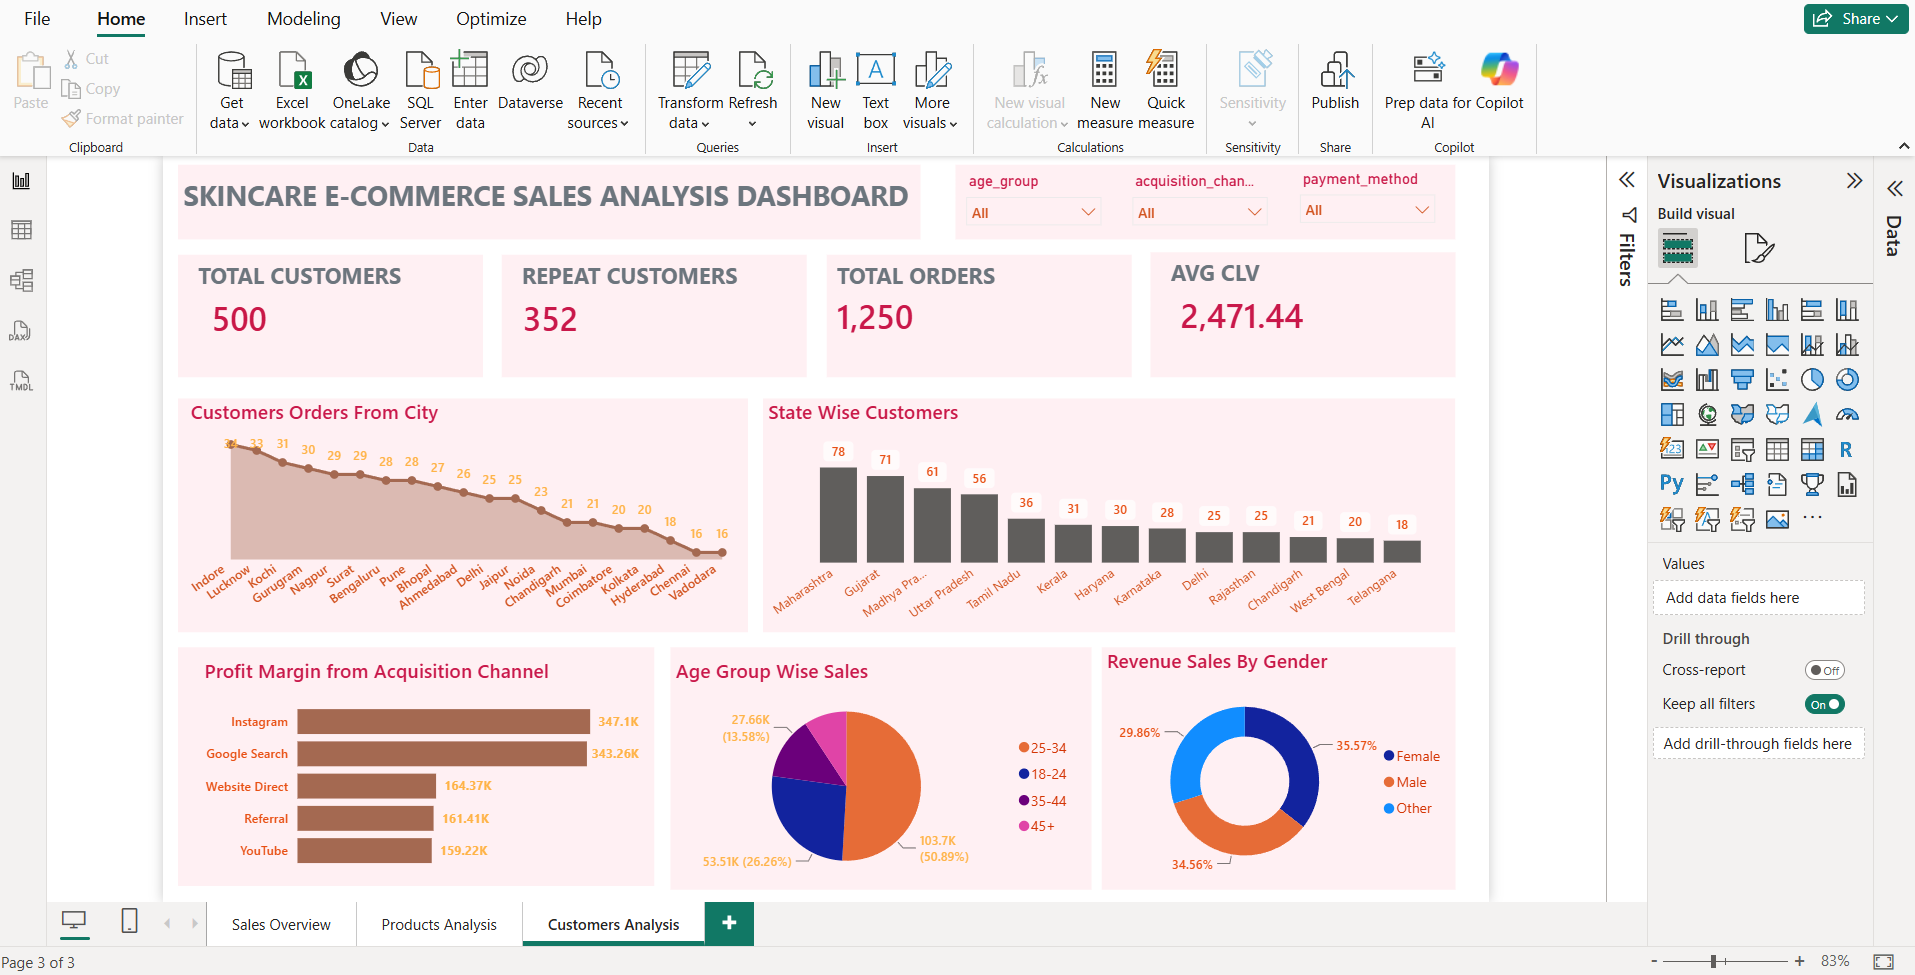

This screenshot's page, from the dashboard's own definition file:
{"tool":"powerbi","page":{"name":"Customers Analysis","canvas":[1280,720],"ordinal":2},"visuals":[{"type":"shape","box":[14.5,95.3,294.4,118.2],"z":0},{"type":"cardVisual","fields":{"Data":["_new meaures.total customers"]},"box":[18.1,120.6,260.6,68.8],"z":1000},{"type":"textbox","box":[29,95.3,249.7,47.1],"z":2000},{"type":"shape","box":[14.5,8.4,716.6,72.4],"z":3000},{"type":"textbox","box":[14.5,14.5,731.1,60.3],"z":4000},{"type":"shape","box":[326.9,95.3,294.4,118.2],"z":5000},{"type":"cardVisual","fields":{"Data":["products.Repeat customers"]},"box":[318.5,120.6,260.6,68.8],"z":6000},{"type":"textbox","box":[341.4,95.3,276.3,47.1],"z":7000},{"type":"shape","box":[640.6,95.3,294.4,118.2],"z":8000},{"type":"cardVisual","fields":{"Data":["_new meaures.total orders"]},"box":[621.3,119.4,331.8,68.8],"z":9000},{"type":"shape","box":[953.1,92.9,294.4,120.6],"z":10000},{"type":"cardVisual","fields":{"Data":["products.avg clv"]},"box":[953.1,118.2,260.6,68.8],"z":11000},{"type":"textbox","box":[967.6,92.9,279.9,47.1],"z":12000},{"type":"shape","box":[579.1,234,668.4,225.6],"z":13000},{"type":"lineStackedColumnComboChart","title":"State Wise Customers","fields":{"Category":["customers.state"],"Y":["_new meaures.total customers"]},"box":[579.1,234,658.7,225.6],"z":14000},{"type":"shape","box":[906,474.1,341.4,234],"z":15000},{"type":"donutChart","title":"Revenue Sales By Gender","fields":{"Y":["_new meaures.product revenue"],"Category":["customers.gender"]},"box":[906,474.1,341.4,234],"z":16000},{"type":"shape","box":[14.5,474.1,459.7,230.4],"z":17000},{"type":"clusteredBarChart","title":"Profit Margin from Acquisition Channel","fields":{"Category":["customers.acquisition_channel"],"Y":["_new meaures.product revenue"]},"box":[35,483.8,429.5,217.2],"z":18000},{"type":"shape","box":[489.8,474.1,406.6,234],"z":19000},{"type":"pieChart","title":"Age Group Wise Sales","fields":{"Category":["customers.age_group"],"Y":["_new meaures.product revenue"]},"box":[489.8,483.8,396.9,224.4],"z":20000},{"type":"shape","box":[14.5,234,550.1,225.6],"z":21000},{"type":"areaChart","title":"Customers Orders From City","fields":{"Category":["customers.city"],"Y":["_new meaures.total customers"]},"box":[21.7,234,533.2,225.6],"z":22000},{"type":"shape","box":[764.9,8.4,482.6,72.4],"z":23000},{"type":"slicer","fields":{"Values":["customers.age_group"]},"box":[764.9,10.9,150.8,67.6],"z":24000},{"type":"slicer","fields":{"Values":["customers.acquisition_channel"]},"box":[925.3,10.9,150.8,67.6],"z":25000},{"type":"slicer","fields":{"Values":["orders.payment_method"]},"box":[1087,8.4,150.8,67.6],"z":26000},{"type":"textbox","box":[645.4,95.3,279.9,47.1],"z":27000}]}

Visuals, with their boxes on the page's 1280x720 design canvas (x1, y1, x2, y2). These are canvas units, not pixel positions in the 1915x975 screenshot, which may show the page scaled, cropped or inside an application window:
shape: bbox=[14, 95, 309, 214]
cardVisual - _new meaures.total customers: bbox=[18, 121, 279, 189]
textbox: bbox=[29, 95, 279, 142]
shape: bbox=[14, 8, 731, 81]
textbox: bbox=[14, 14, 746, 75]
shape: bbox=[327, 95, 621, 214]
cardVisual - products.Repeat customers: bbox=[318, 121, 579, 189]
textbox: bbox=[341, 95, 618, 142]
shape: bbox=[641, 95, 935, 214]
cardVisual - _new meaures.total orders: bbox=[621, 119, 953, 188]
shape: bbox=[953, 93, 1248, 214]
cardVisual - products.avg clv: bbox=[953, 118, 1214, 187]
textbox: bbox=[968, 93, 1248, 140]
shape: bbox=[579, 234, 1248, 460]
"State Wise Customers" lineStackedColumnComboChart: bbox=[579, 234, 1238, 460]
shape: bbox=[906, 474, 1247, 708]
"Revenue Sales By Gender" donutChart: bbox=[906, 474, 1247, 708]
shape: bbox=[14, 474, 474, 704]
"Profit Margin from Acquisition Channel" clusteredBarChart: bbox=[35, 484, 464, 701]
shape: bbox=[490, 474, 896, 708]
"Age Group Wise Sales" pieChart: bbox=[490, 484, 887, 708]
shape: bbox=[14, 234, 565, 460]
"Customers Orders From City" areaChart: bbox=[22, 234, 555, 460]
shape: bbox=[765, 8, 1248, 81]
slicer - customers.age_group: bbox=[765, 11, 916, 78]
slicer - customers.acquisition_channel: bbox=[925, 11, 1076, 78]
slicer - orders.payment_method: bbox=[1087, 8, 1238, 76]
textbox: bbox=[645, 95, 925, 142]
